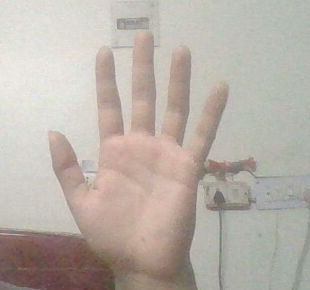move: (44, 24, 236, 290)
